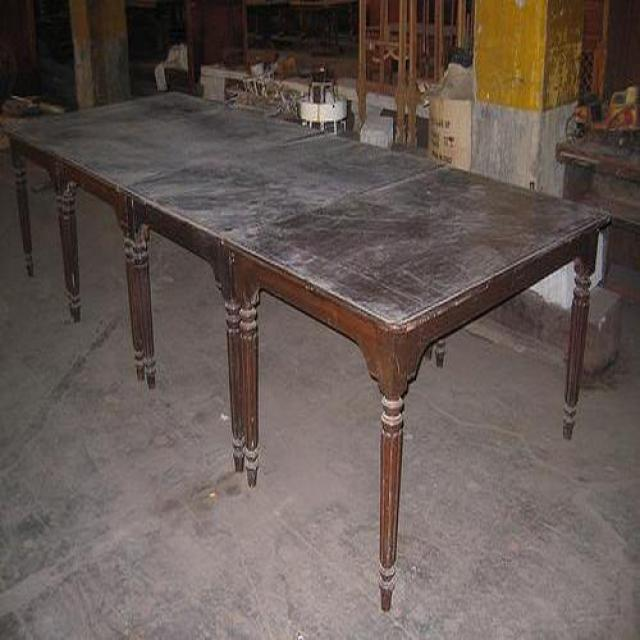table: (12, 92, 618, 613)
